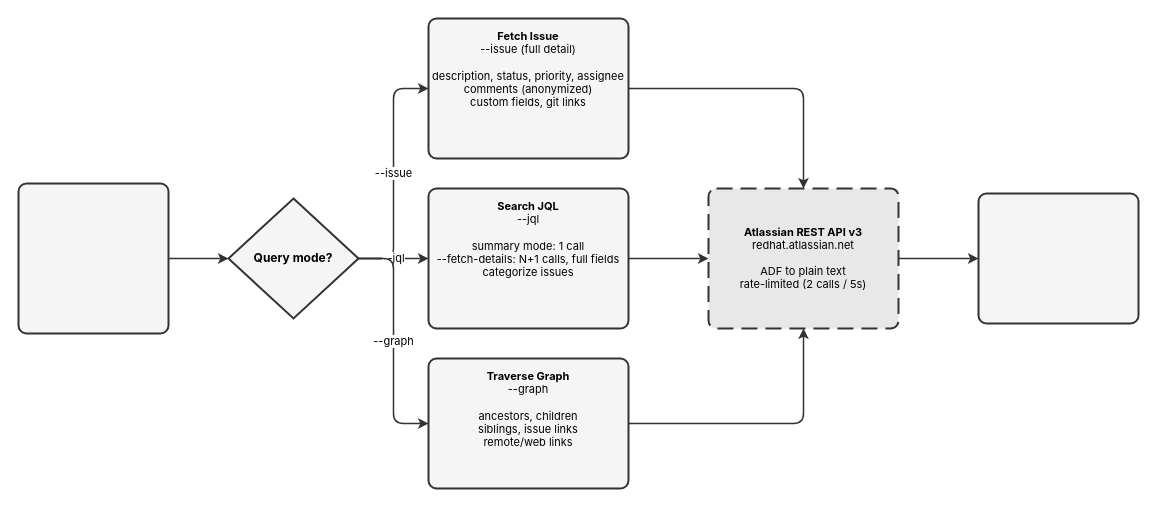
Image size: 1156x506. Some labels were removed from this diagram. The shapes that lost their labels are listed below. From the top down, each one's centre as x and y in pixels, then its label:
point (93, 258): jira_reader.py read-only JIRA access --issue KEY --jql "..." --graph KEY
point (1058, 258): JSON Output summary / detailed graph relationships
